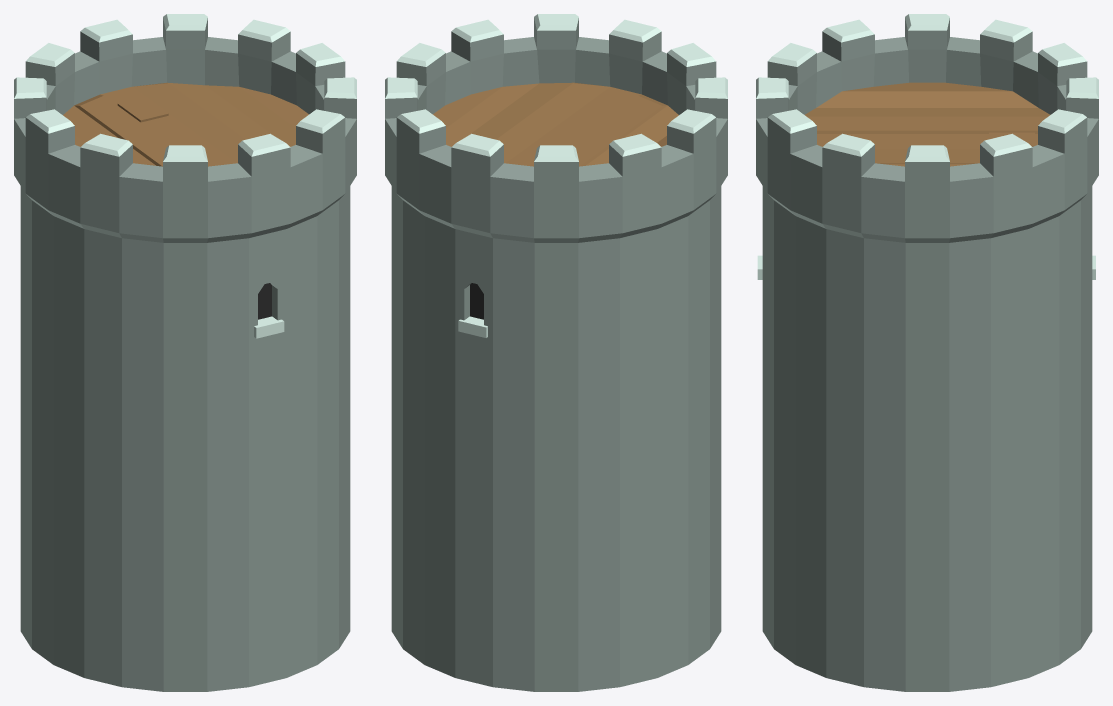
Rendered from castle-tower_01.fbx.
3 renders of one model, left to right at view 1: azimuth 30°, elevation 25°; view 2: azimuth 150°, elevation 25°; view 3: azimuth 270°, elevation 25°, orthographic.
Visible parts, largest first — view 1: castle-tower_01; view 2: castle-tower_01; view 3: castle-tower_01.
Part boxes in pixels (box(x1,y1,x2,y2)): castle-tower_01: box(14, 14, 356, 691); castle-tower_01: box(385, 14, 727, 691); castle-tower_01: box(756, 14, 1098, 691).
Bounding box in the file's own units: 779 × 1347 × 779.
